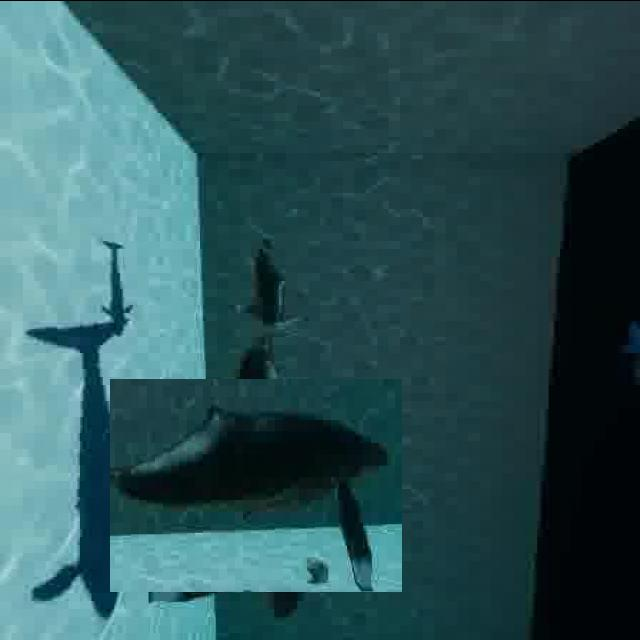Whale: (129, 358, 382, 612)
